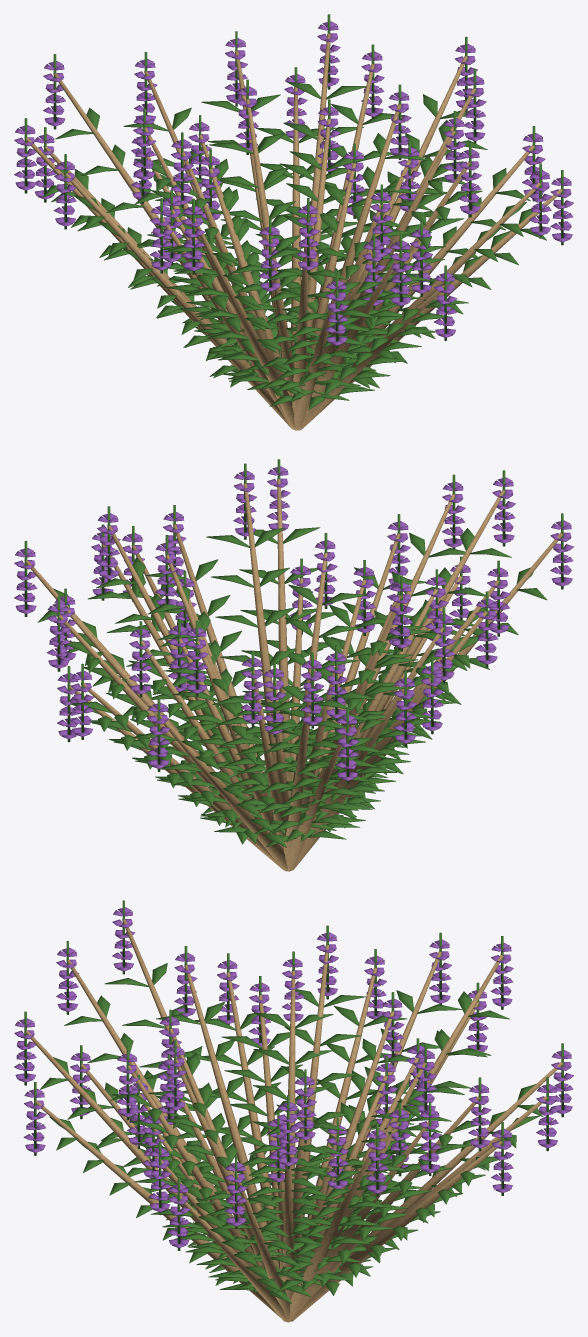
Rendered from hq_lavender_cc0_drawmerged.glb.
3 renders of one model, top to bottom at view 1: azimuth 30°, elevation 25°; view 2: azimuth 150°, elevation 25°; view 3: azimuth 270°, elevation 25°, orthographic. The views are drawn at different scales.
Visible parts, largest first — view 1: Dense authored shrub foliage, Shrub branching stem, Shrub flowers; view 2: Dense authored shrub foliage, Shrub branching stem, Shrub flowers; view 3: Dense authored shrub foliage, Shrub branching stem, Shrub flowers.
Boxes of the visible parts, x1,y1,x2,y2 form: Dense authored shrub foliage: (24,14,563,409); Shrub branching stem: (25,33,562,430); Shrub flowers: (14,21,573,345); Dense authored shrub foliage: (24,459,563,847); Shrub branching stem: (25,479,563,871); Shrub flowers: (14,466,573,780); Dense authored shrub foliage: (24,900,563,1303); Shrub branching stem: (25,919,562,1322); Shrub flowers: (14,907,573,1247).
Size of the model in its own units: 0.815 by 0.6135 by 0.9401.
Materials: 3 (3 with a texture image).
